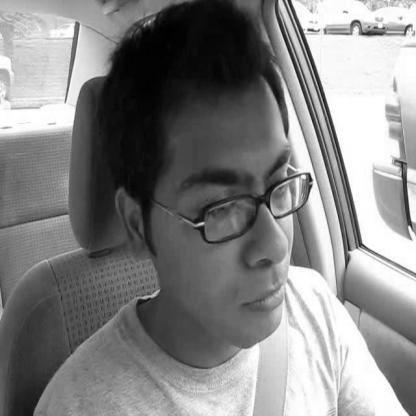seatbelt: (81, 11, 323, 416)
